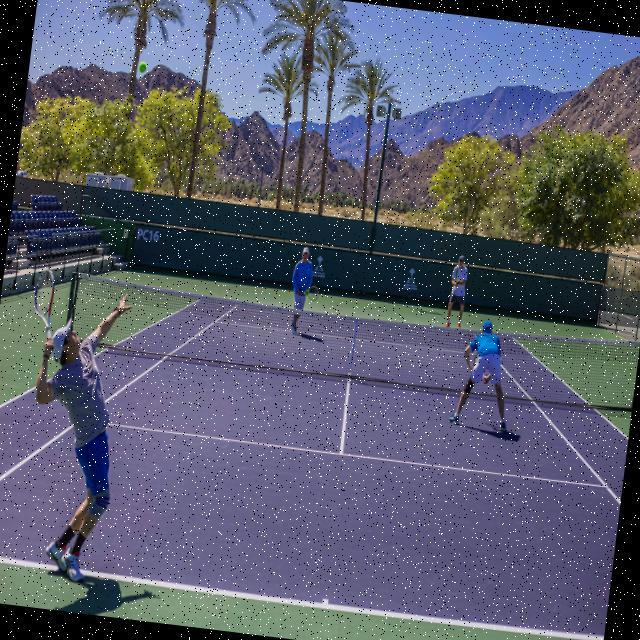court: (0, 302, 635, 640)
net: (58, 262, 640, 422)
player: (0, 252, 147, 597), (447, 312, 526, 444)
